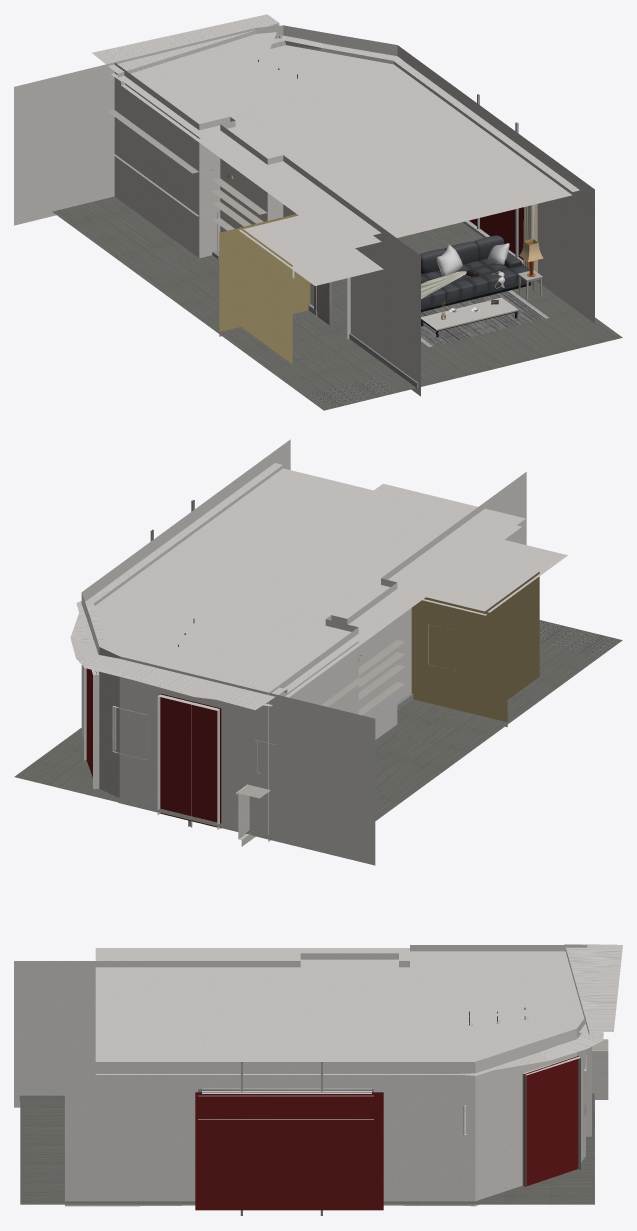
The model's file is NvMingXingJia_03_new.FBX.
The picture shows the model from 3 angles, top to bottom: view 1: azimuth 30°, elevation 25°; view 2: azimuth 150°, elevation 25°; view 3: azimuth 270°, elevation 25°; orthographic projection. The views are drawn at different scales.
Parts seen in each view (by area): view 1: Object084, Plane013, objoct009, Plane011, Plane012, Object075, default001, 021, Object080, Box039, Object091, Box029 (+4 smaller); view 2: Object084, Plane011, Plane013, objoct009, Object075, Plane012, Object091, Box029, Box078; view 3: Plane011, Object084, Object091, Plane013, Plane012, objoct009, Box078, Box070.
Part boxes in pixels (x1=…): Object084: x1=92, y1=14, x2=477, y2=242; Plane013: x1=111, y1=35, x2=579, y2=285; objoct009: x1=52, y1=196, x2=622, y2=410; Plane011: x1=14, y1=25, x2=594, y2=323; Plane012: x1=114, y1=62, x2=420, y2=396; Object075: x1=219, y1=214, x2=310, y2=364; default001: x1=421, y1=258, x2=531, y2=311; 021: x1=421, y1=290, x2=548, y2=347; Object080: x1=420, y1=235, x2=522, y2=273; Box039: x1=421, y1=297, x2=518, y2=330; Object091: x1=469, y1=207, x2=523, y2=259; Box029: x1=212, y1=178, x2=267, y2=230; Object084: x1=79, y1=483, x2=525, y2=710; Plane011: x1=81, y1=439, x2=375, y2=865; Plane013: x1=70, y1=463, x2=567, y2=706; objoct009: x1=14, y1=620, x2=622, y2=854; Object075: x1=411, y1=571, x2=539, y2=726; Plane012: x1=268, y1=472, x2=526, y2=841; Object091: x1=86, y1=668, x2=221, y2=828; Box029: x1=358, y1=639, x2=405, y2=715; Box078: x1=236, y1=784, x2=270, y2=846; Plane011: x1=65, y1=1017, x2=591, y2=1206; Object084: x1=95, y1=944, x2=622, y2=1035; Object091: x1=195, y1=1056, x2=578, y2=1210; Plane013: x1=95, y1=1016, x2=603, y2=1075; Plane012: x1=14, y1=945, x2=587, y2=1107; objoct009: x1=20, y1=1093, x2=594, y2=1204; Box078: x1=592, y1=1039, x2=608, y2=1099; Box070: x1=198, y1=1089, x2=373, y2=1096.
Bounding box in the file's own units: 5536 × 2293 × 8223.
